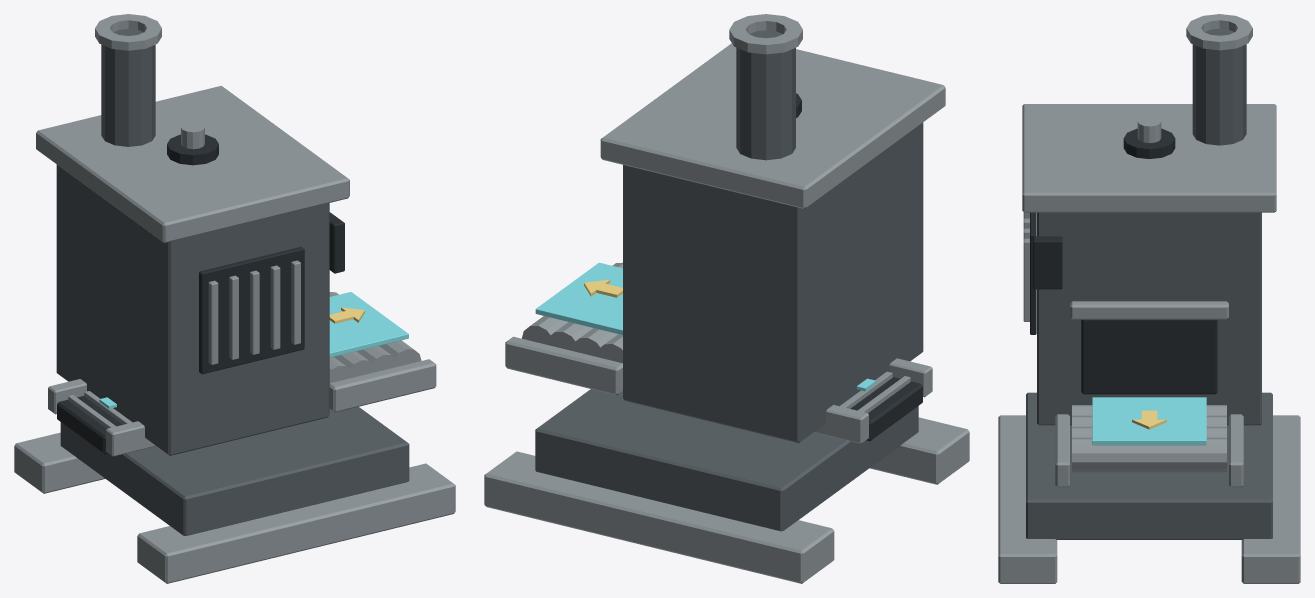
The model's file is glassworks-mk1.glb.
3 views of the same model, side by side, from view 1: azimuth 30°, elevation 25°; view 2: azimuth 150°, elevation 25°; view 3: azimuth 270°, elevation 25° (orthographic). The views are drawn at different scales.
Visible parts, largest first — view 1: glassworks / Graphite enamel, glassworks / Machined steel, glassworks / Recesses and belt, glassworks / Cyan inlet markings; view 2: glassworks / Graphite enamel, glassworks / Machined steel, glassworks / Cyan inlet markings, glassworks / Recesses and belt; view 3: glassworks / Graphite enamel, glassworks / Machined steel, glassworks / Recesses and belt, glassworks / Cyan inlet markings, glassworks / Gold outlet markings.
Part boxes in pixels (bbox=[...]): glassworks / Graphite enamel: bbox=[56, 28, 409, 535]; glassworks / Machined steel: bbox=[14, 14, 455, 583]; glassworks / Recesses and belt: bbox=[57, 134, 344, 454]; glassworks / Cyan inlet markings: bbox=[99, 292, 408, 408]; glassworks / Graphite enamel: bbox=[535, 30, 923, 531]; glassworks / Machined steel: bbox=[484, 14, 969, 583]; glassworks / Cyan inlet markings: bbox=[535, 262, 876, 391]; glassworks / Recesses and belt: bbox=[796, 93, 922, 441]; glassworks / Graphite enamel: bbox=[1026, 28, 1272, 539]; glassworks / Machined steel: bbox=[998, 14, 1300, 583]; glassworks / Recesses and belt: bbox=[1030, 128, 1217, 394]; glassworks / Cyan inlet markings: bbox=[1092, 397, 1206, 445]; glassworks / Gold outlet markings: bbox=[1132, 410, 1166, 429].
Bounding box in the file's own units: 0.96 × 1.35 × 0.82.
